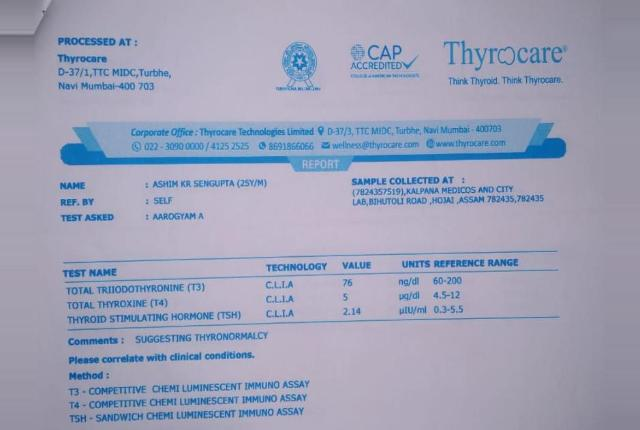Clinical_Conditions: (62, 378, 320, 426)
Name: (151, 177, 269, 190)
Ref_By: (152, 195, 179, 206)
Reference_Range: (432, 274, 468, 317)
Technology: (262, 277, 302, 324)
Test_Asked: (151, 211, 207, 224)
Test_Name: (62, 281, 244, 329)
Unit: (395, 274, 430, 319)
Value: (336, 277, 372, 320)
